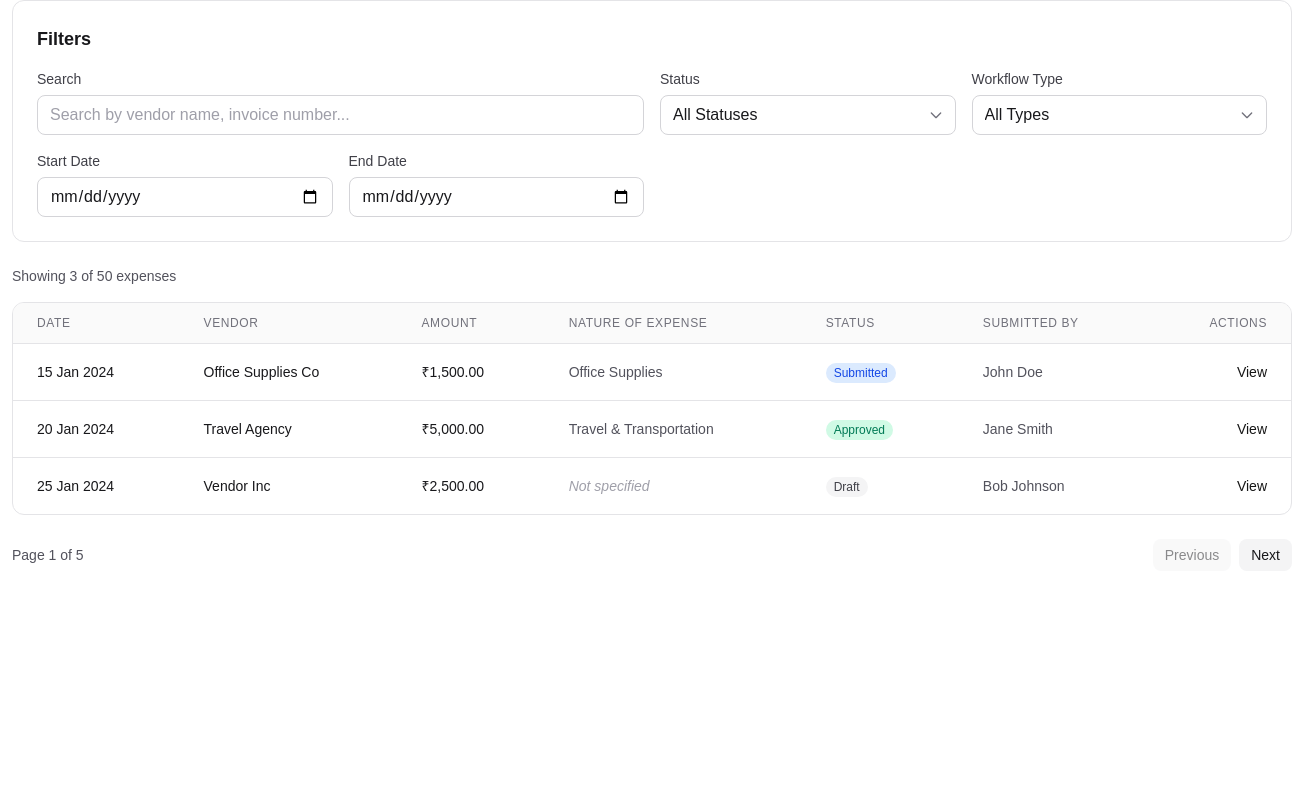
Test: ExpenseList › Pagination › should disable Next button on last page
The width and height of the screenshot is (1304, 800).
Check: the text "Page 1 of 5" is shown, box [12,545,84,565]
Click the button "Next": (1266, 555) [1239,539,1292,571]
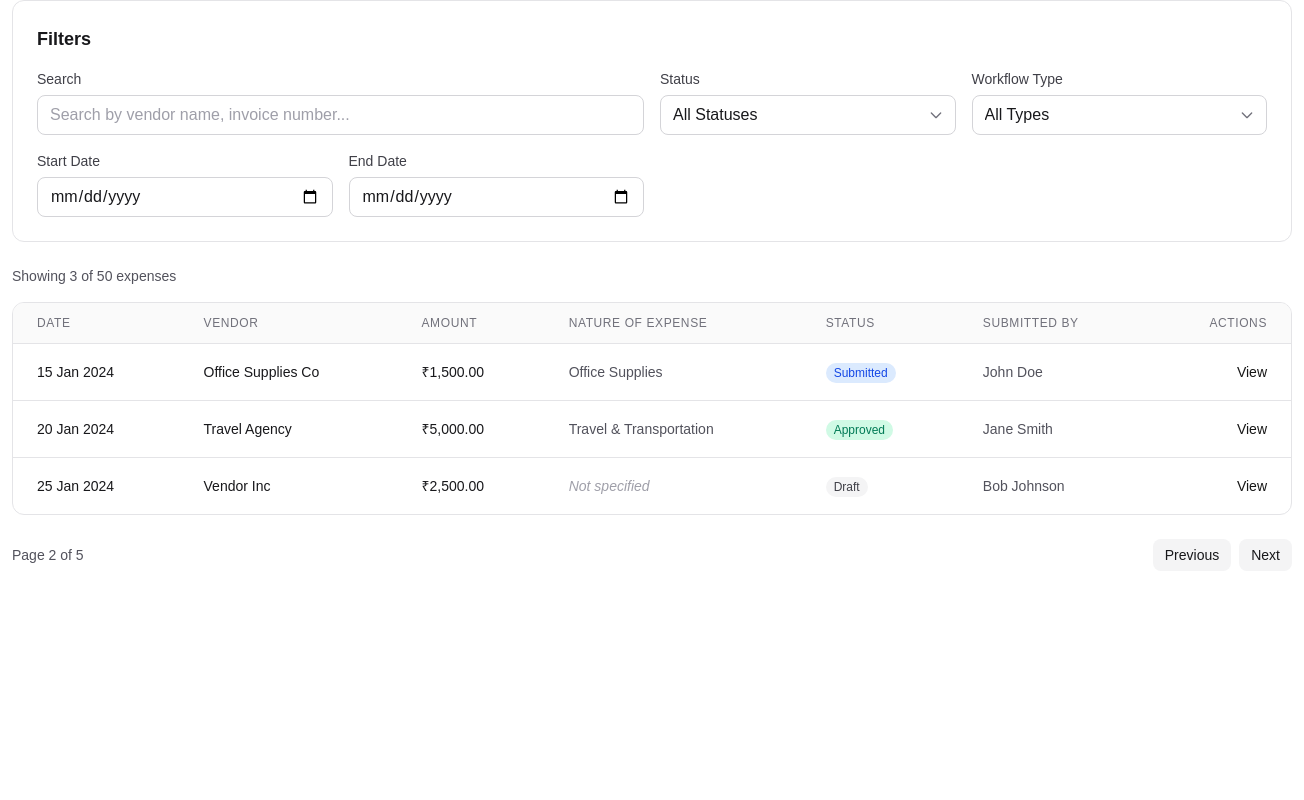
Click the button "Next": (1266, 555) [1239,539,1292,571]
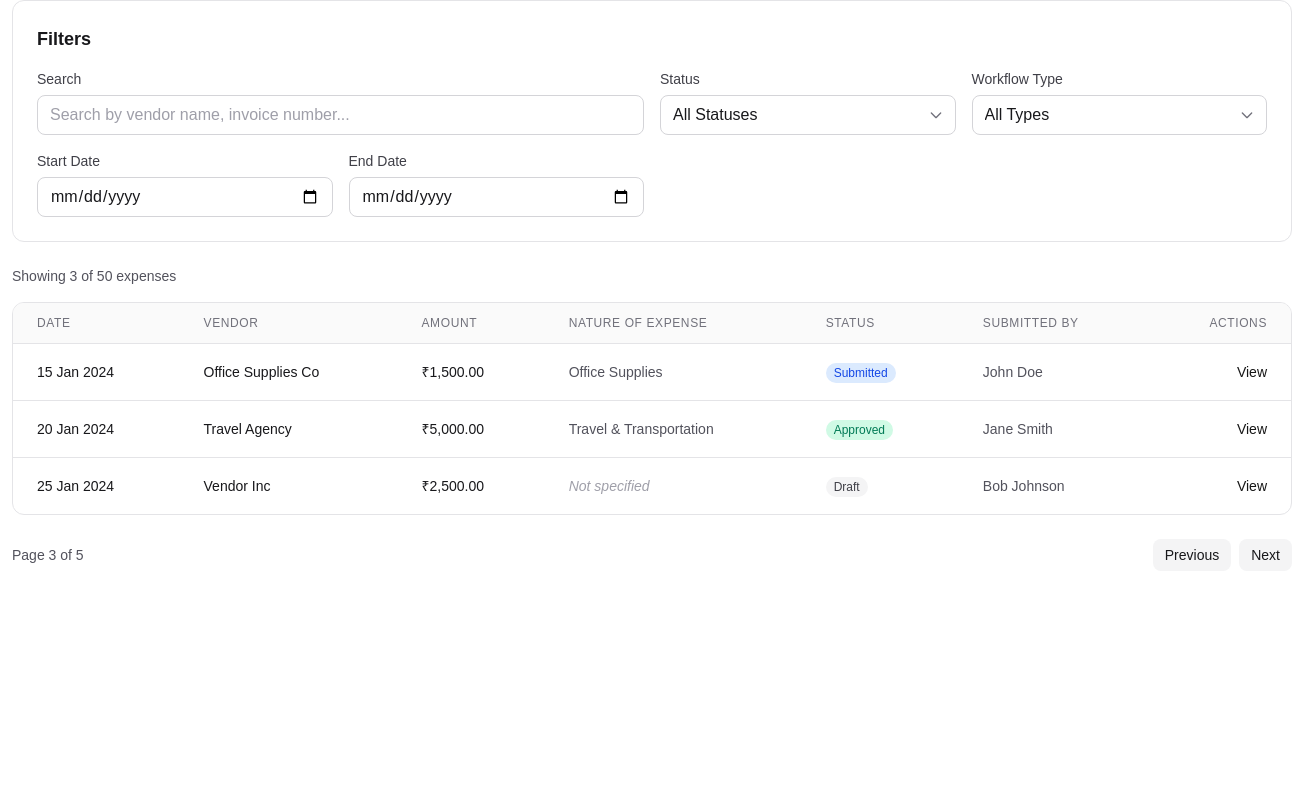
Click the button "Next": (1266, 555) [1239,539,1292,571]
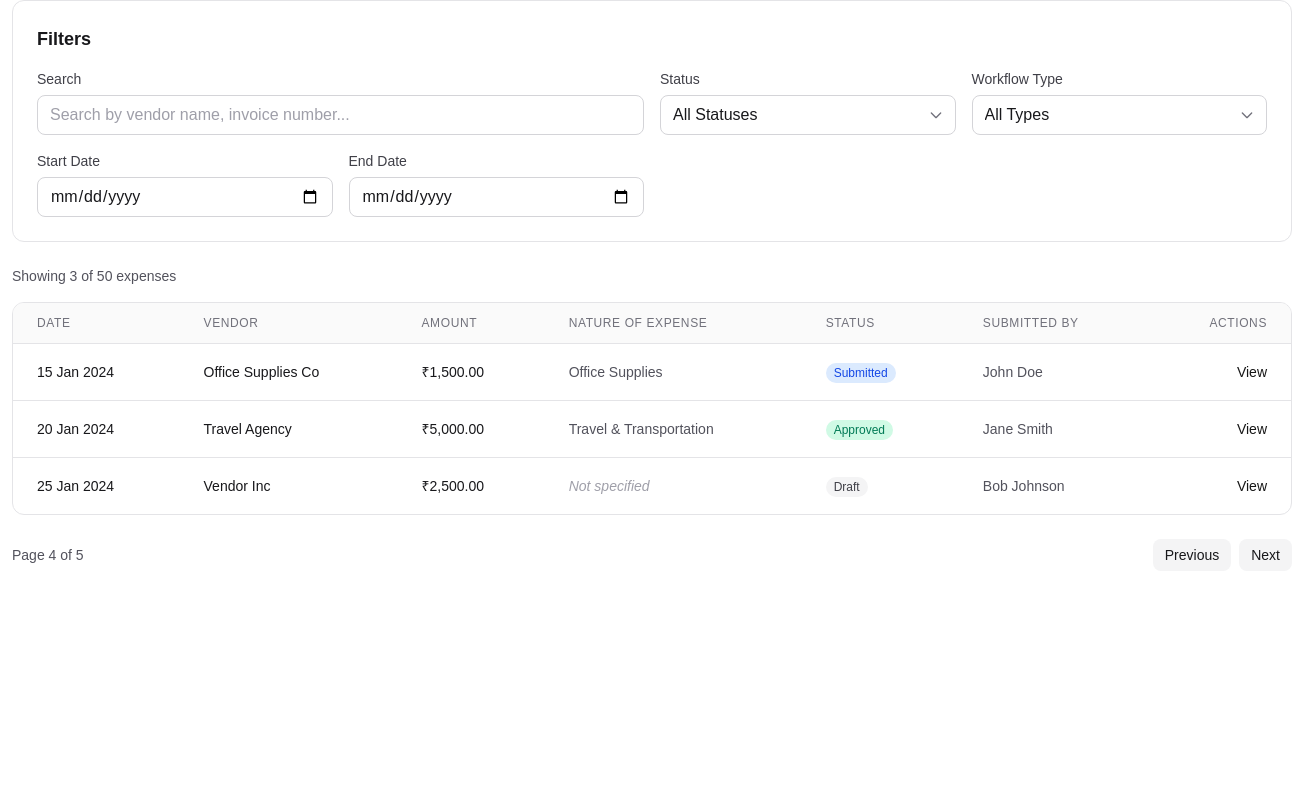
Click the button "Next": (1266, 555) [1239,539,1292,571]
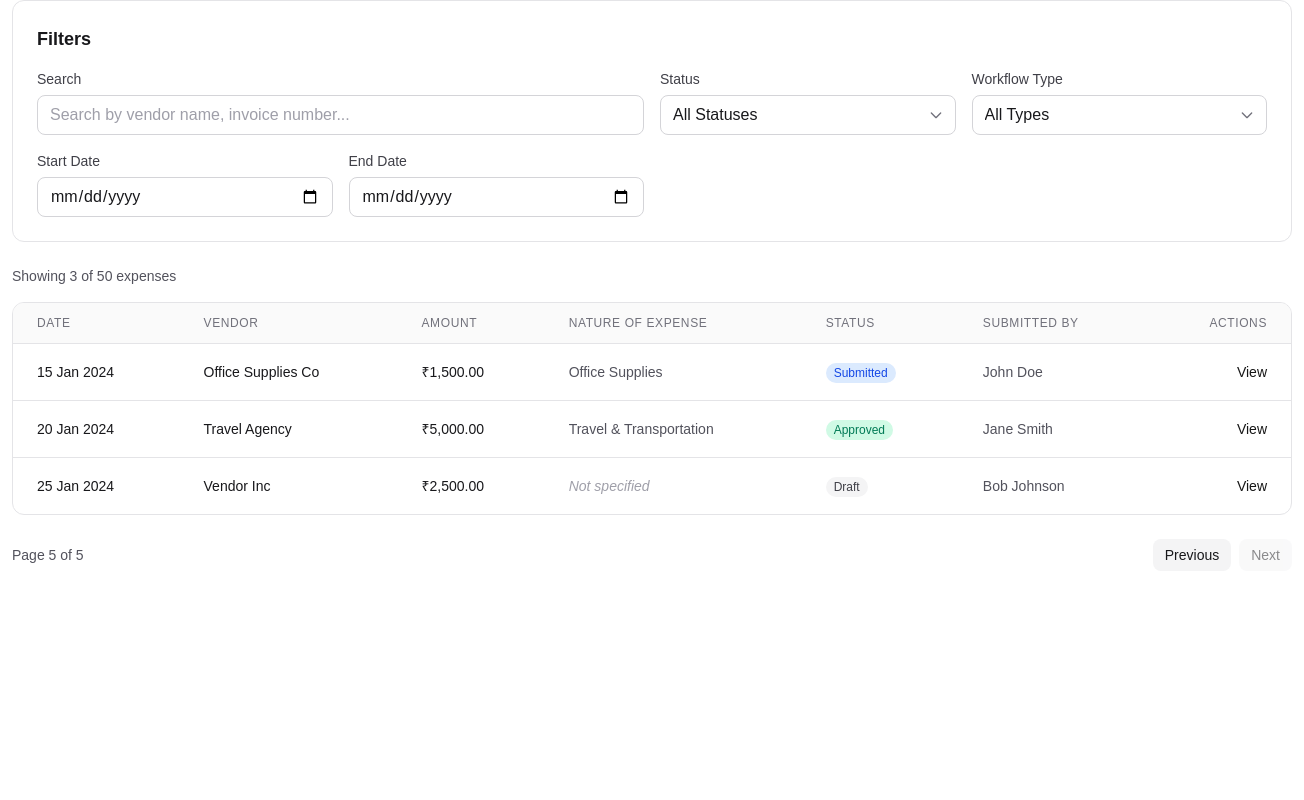
Check: the button "Next" is disabled, box [1239,539,1292,571]
